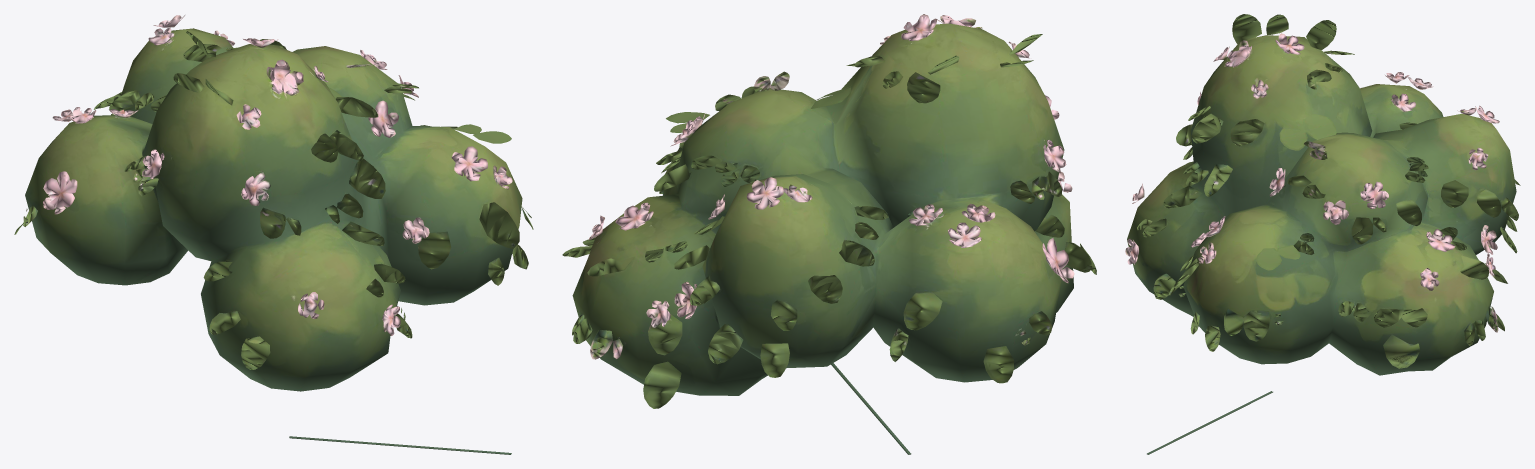
The model's file is flowering_bush.glb.
3 views of the same model, side by side, from view 1: azimuth 30°, elevation 25°; view 2: azimuth 150°, elevation 25°; view 3: azimuth 270°, elevation 25° (orthographic). The views are drawn at different scales.
Visible parts, largest first — view 1: tripo_node_7801f580-dca5-445c-92ba-b7642a769f70; view 2: tripo_node_7801f580-dca5-445c-92ba-b7642a769f70; view 3: tripo_node_7801f580-dca5-445c-92ba-b7642a769f70.
Boxes of the visible parts, x1,y1,x2,y2 form: tripo_node_7801f580-dca5-445c-92ba-b7642a769f70: (14, 15, 533, 454); tripo_node_7801f580-dca5-445c-92ba-b7642a769f70: (562, 14, 1096, 454); tripo_node_7801f580-dca5-445c-92ba-b7642a769f70: (1125, 14, 1520, 454).
Size of the model in its own units: 0.998 by 0.9004 by 0.9316.
1 material, 1 textured.
